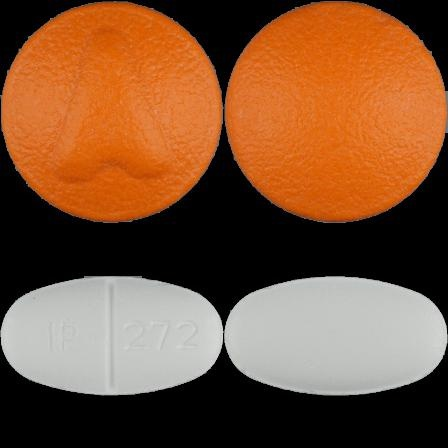50090-0003: (0, 0, 224, 224)
